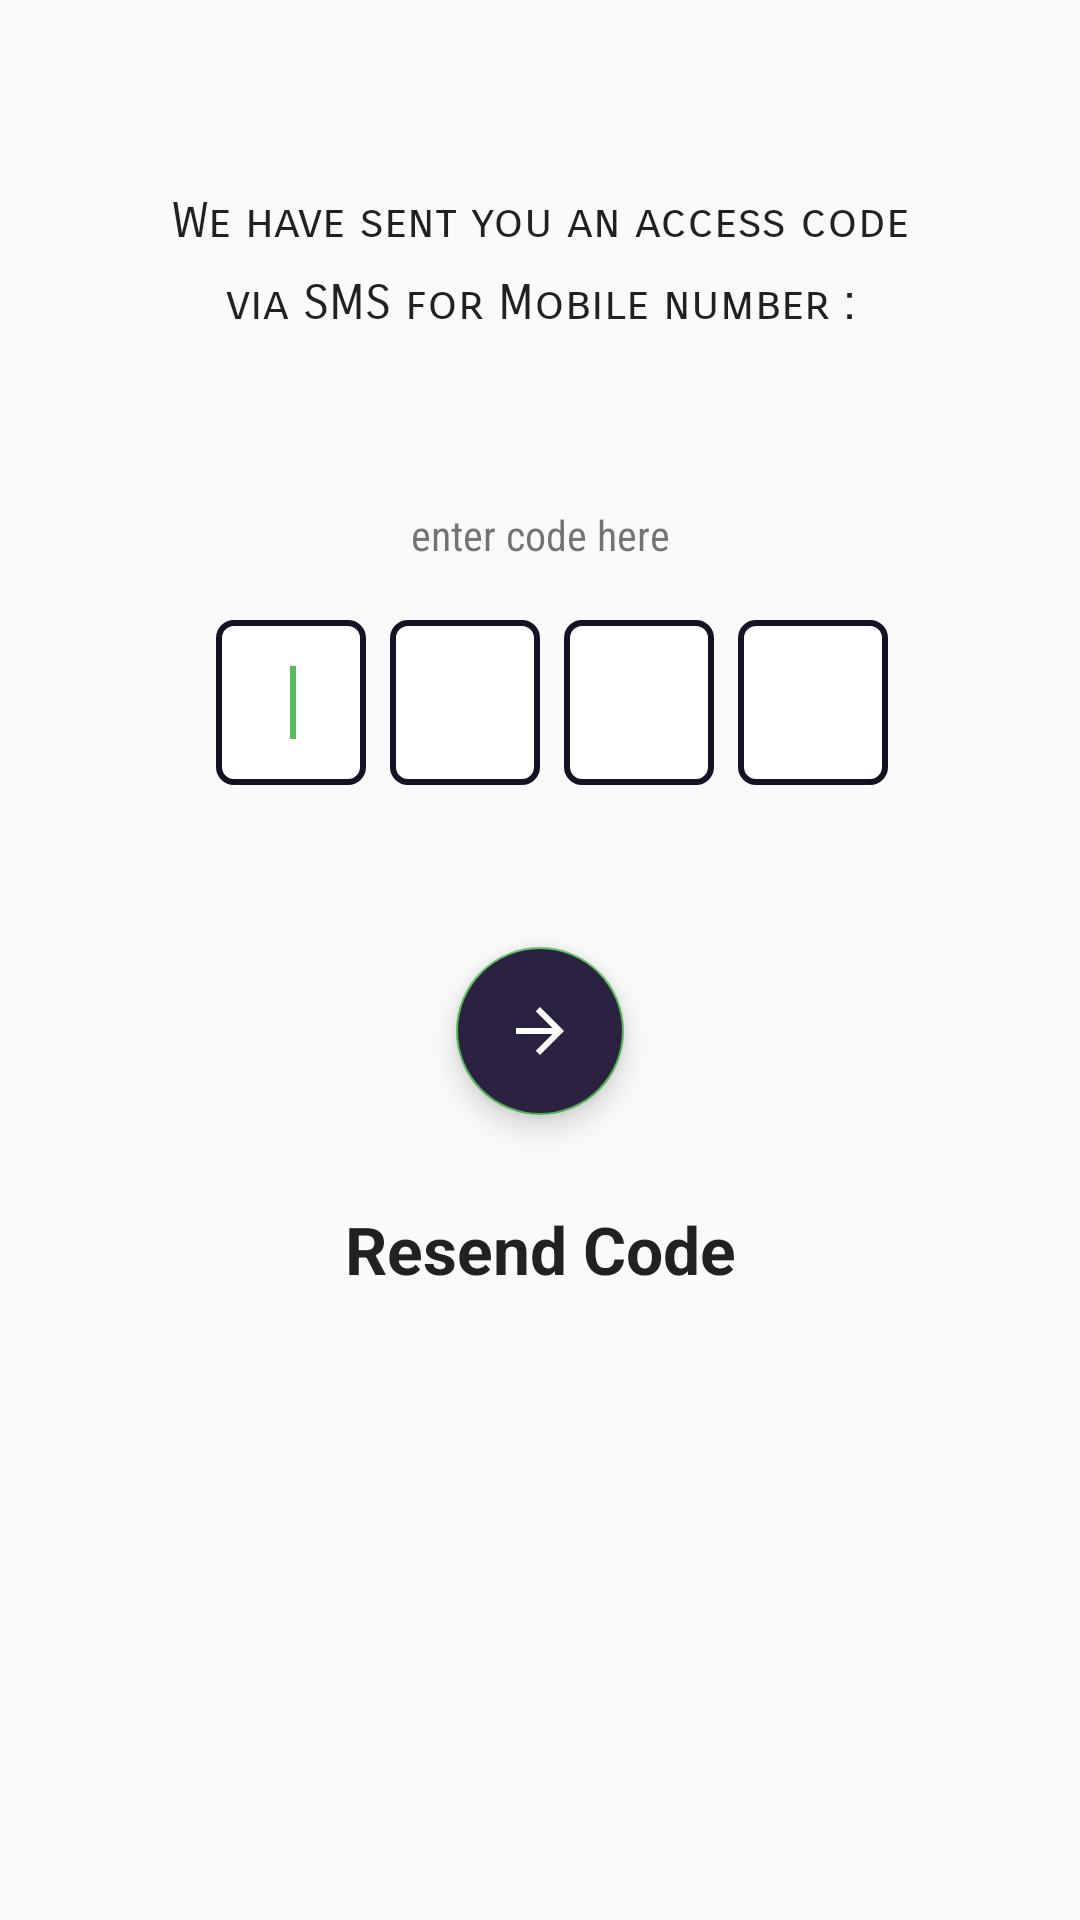

Named icons in this screenshot (1080w x 1920h) and their centers, (x,y):
next: (540,1031)
